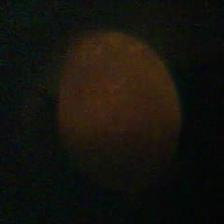fertile: (54, 31, 182, 186)
